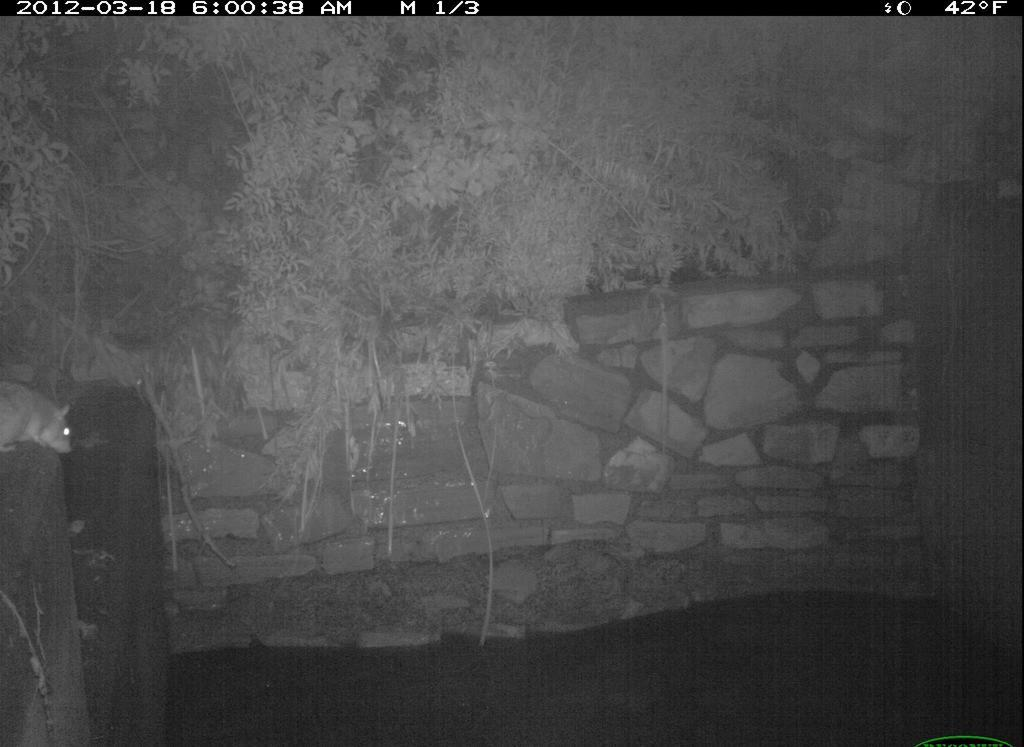rodent: (1, 370, 84, 470)
